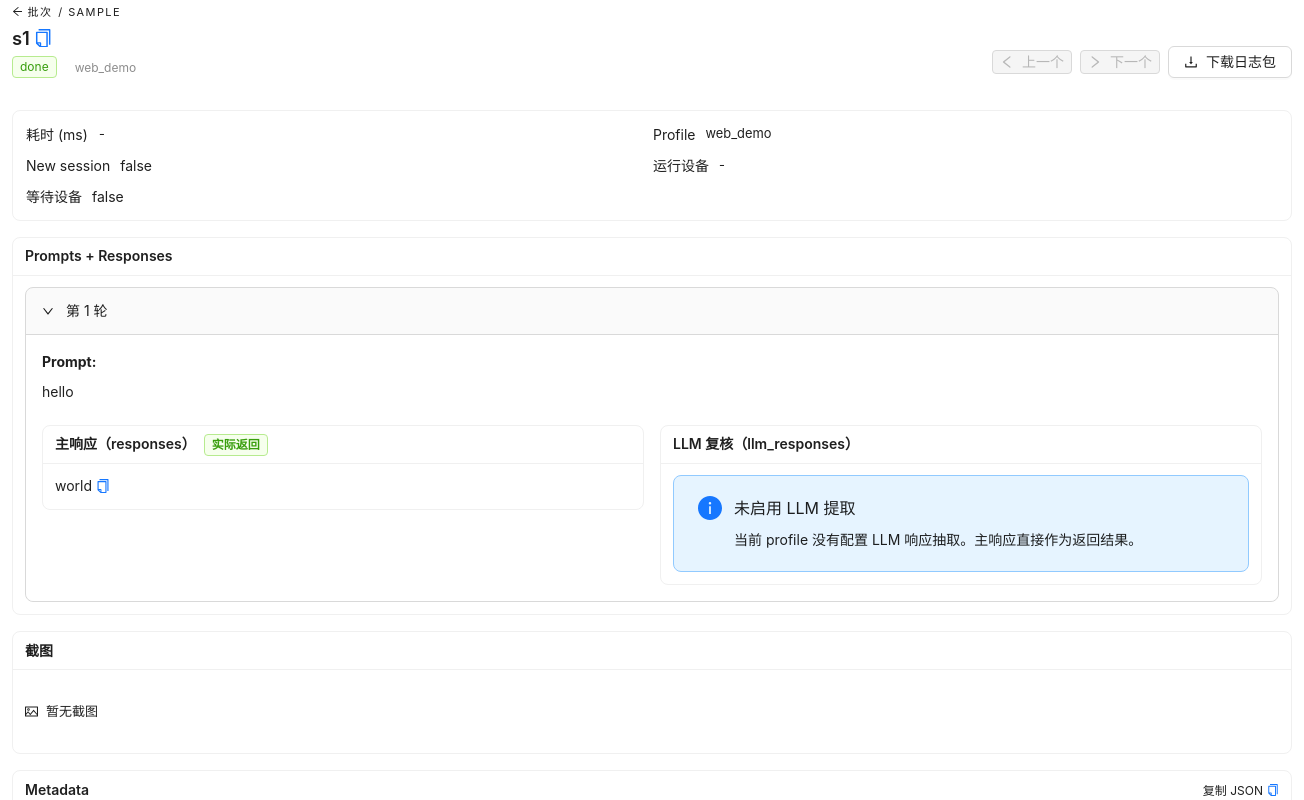
Scenario: SampleDetail › shows an error toast when the log download fails
Click the button "下载日志包" at (1230, 62), box [1168, 46, 1292, 78]
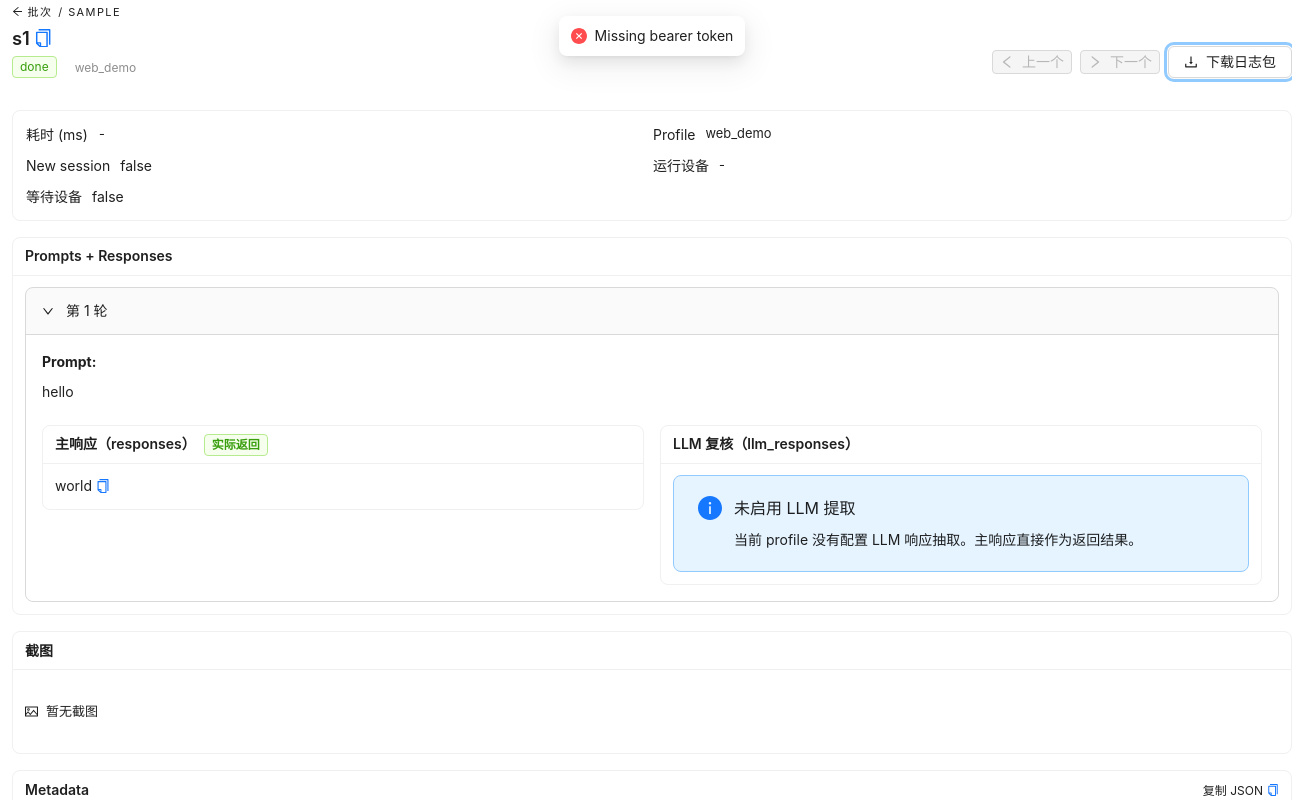
Expected: the text "Missing bearer token" is shown, [595, 25, 733, 47]
